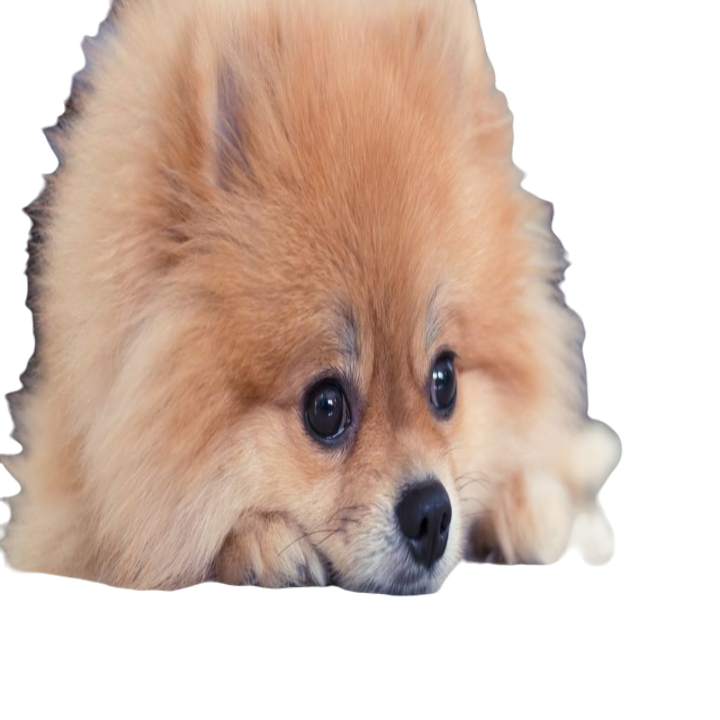Dog: (0, 0, 618, 595)
